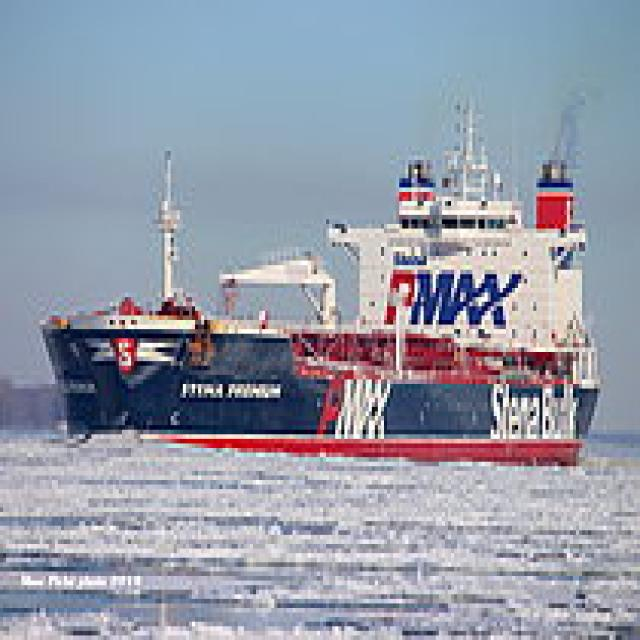Tanker: (36, 92, 598, 457)
